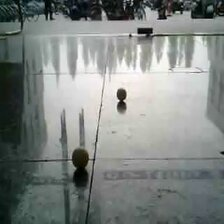w: (71, 147, 89, 170), (116, 88, 128, 101)
